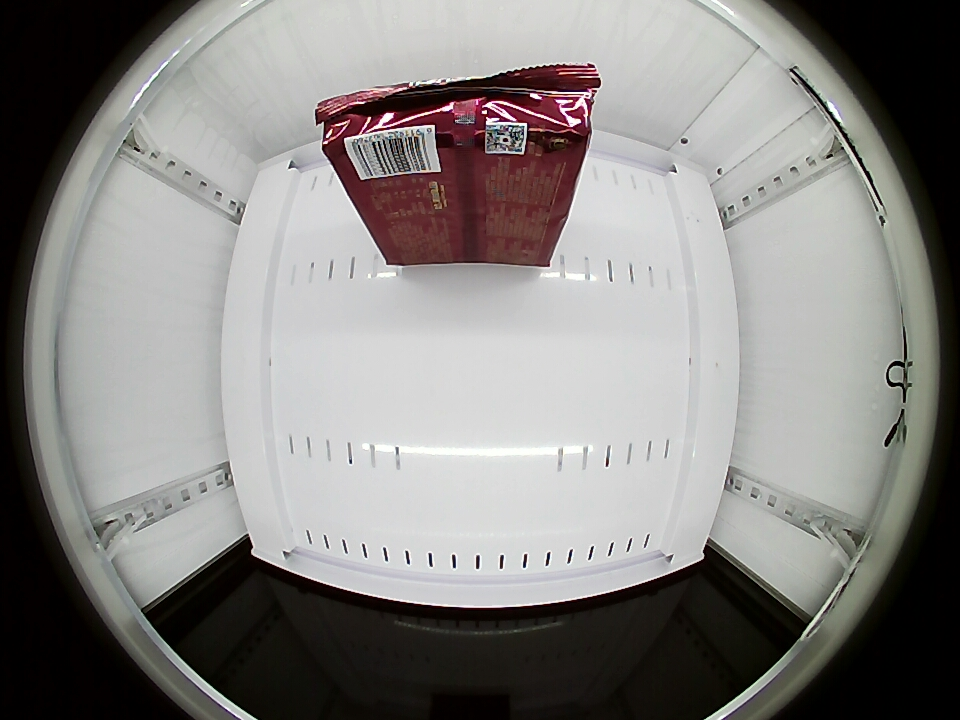haochidian: (317, 88, 597, 190)
